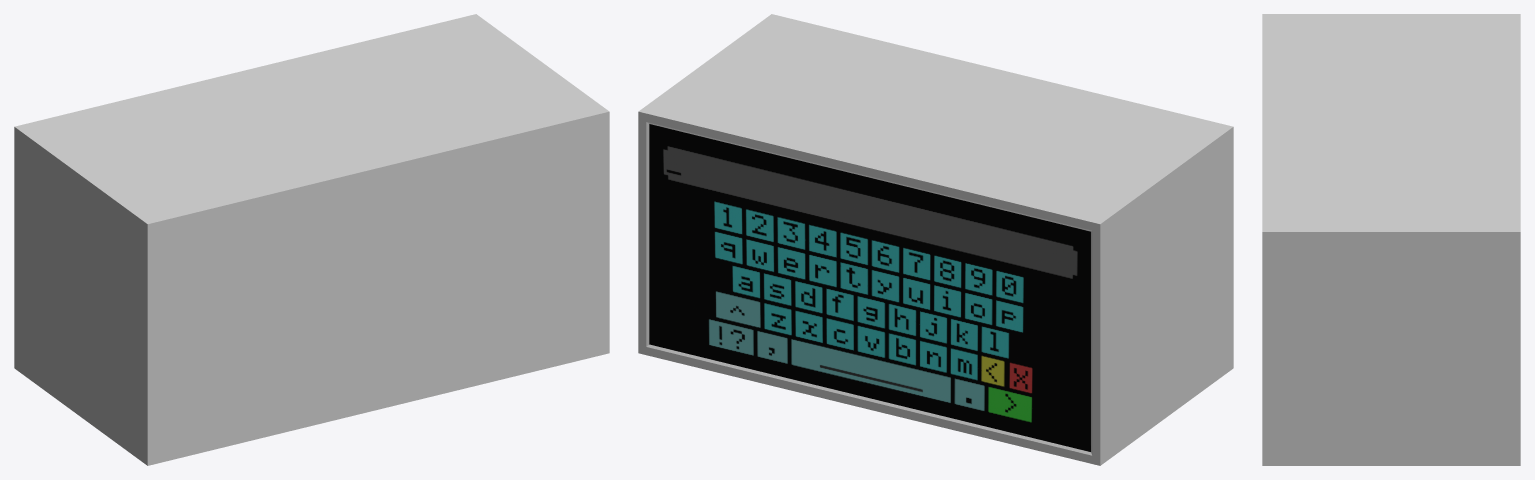
File: Keyboard.gltf
3 renders of one model, left to right at view 1: azimuth 30°, elevation 25°; view 2: azimuth 150°, elevation 25°; view 3: azimuth 270°, elevation 25°, orthographic. The views are drawn at different scales.
Parts seen in each view (by area): view 1: base; view 2: base; view 3: base.
Part boxes in pixels (<box>): base: <box>14,14,609,465</box>; base: <box>638,14,1233,465</box>; base: <box>1262,14,1520,465</box>.
Bounding box in the file's own units: 0.5 × 0.2706 × 0.25.
Materials: 3 (1 with a texture image).
